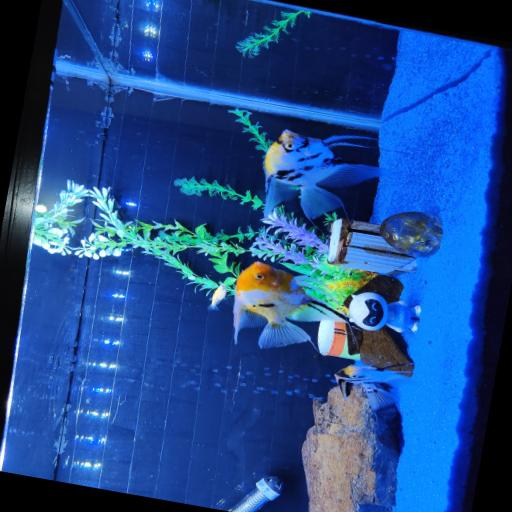Fish: (264, 130, 392, 220), (234, 262, 347, 348), (335, 364, 409, 411), (208, 283, 227, 310)
